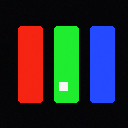1 square: (59, 82, 67, 90)
